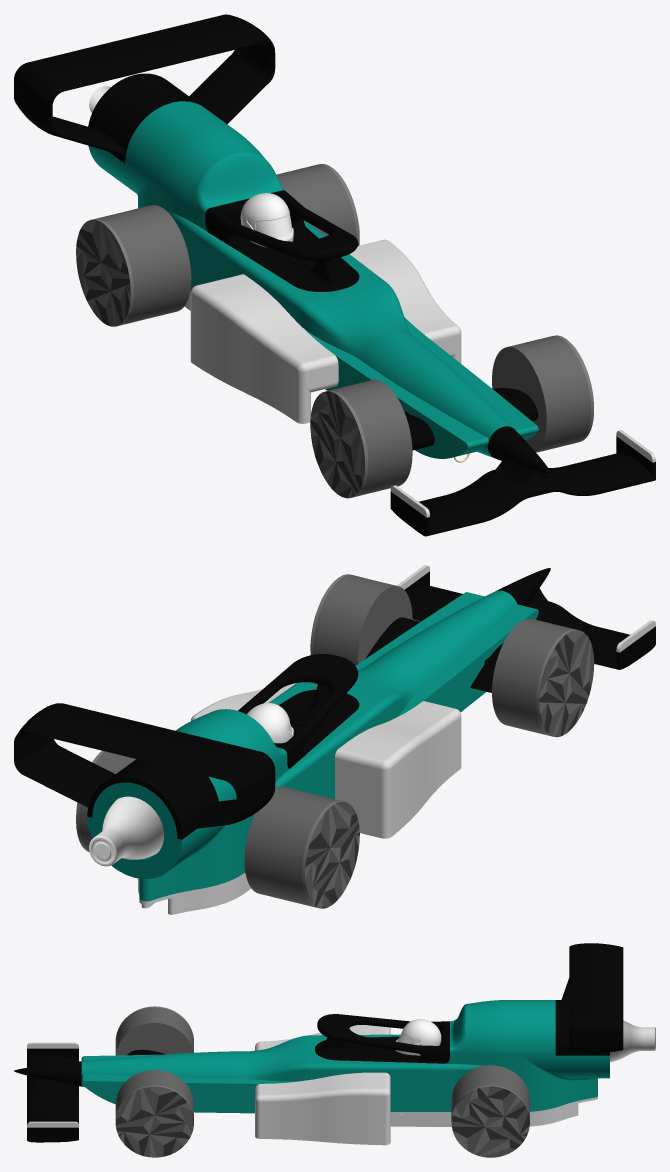
Rendered from car-model.glb.
3 renders of one model, top to bottom at view 1: azimuth 30°, elevation 25°; view 2: azimuth 150°, elevation 25°; view 3: azimuth 270°, elevation 25°, orthographic. The views are drawn at different scales.
Visible parts, largest first — view 1: Right Sidepod, Main Rear, Body1.001, Wing, Body1.003, Body1.004, Nose Cone 2, Middle/Nose Joint 2, Body1.005, Body3.001, Body4, Main Middle (+15 smaller); view 2: Right Sidepod, Main Rear, Wing, Body1.004, Body1.001, Body1.003, Body1.005, Nose Cone 2, Body3.001, Body4, Left Support, Main Middle (+16 smaller); view 3: Main Rear, Left Sidepod, Main Middle, Body2.002, Body3, Body1.001, Wing, Nose Cone 2, Body1.005, Middle/Nose Joint 2, Car Front, Left Support (+18 smaller).
Part boxes in pixels (x1,y1,x2,y2): Right Sidepod: (190, 274, 338, 423); Main Rear: (88, 101, 266, 248); Body1.001: (205, 190, 359, 291); Wing: (27, 15, 261, 90); Body1.003: (492, 336, 590, 452); Body1.004: (95, 205, 191, 325); Nose Cone 2: (360, 331, 514, 457); Middle/Nose Joint 2: (297, 281, 412, 359); Body1.005: (329, 379, 412, 496); Body3.001: (310, 390, 368, 498); Body4: (76, 219, 133, 326); Main Middle: (187, 220, 384, 321); Right Sidepod: (335, 701, 461, 838); Main Rear: (87, 709, 277, 901); Wing: (27, 703, 259, 780); Body1.004: (244, 787, 340, 907); Body1.001: (238, 654, 359, 768); Body1.003: (313, 575, 412, 665); Body1.005: (492, 618, 575, 735); Nose Cone 2: (369, 590, 516, 689); Body3.001: (536, 629, 594, 737); Body4: (301, 801, 359, 908); Left Support: (14, 703, 115, 807); Main Middle: (269, 682, 388, 799); Main Rear: (466, 1000, 609, 1111); Left Sidepod: (255, 1072, 390, 1145); Main Middle: (312, 1034, 466, 1111); Body2.002: (115, 1085, 193, 1157); Body3: (451, 1085, 529, 1157); Body1.001: (315, 1014, 449, 1063); Wing: (569, 944, 623, 1016); Nose Cone 2: (81, 1051, 244, 1087); Body1.005: (115, 1007, 193, 1055); Middle/Nose Joint 2: (244, 1035, 311, 1081); Car Front: (155, 1054, 258, 1113); Left Support: (556, 1013, 623, 1053).
Size of the model in its own units: 0.071 by 0.0565 by 0.237.
